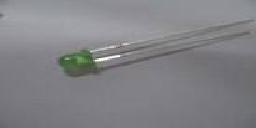LED: (53, 44, 108, 77)
